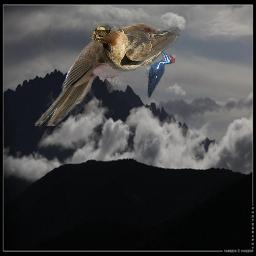Cuckoo: (35, 23, 172, 126)
Swallow: (90, 23, 182, 73)
Woodpecker: (146, 48, 175, 100)
